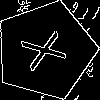X: (20, 25, 77, 72)
